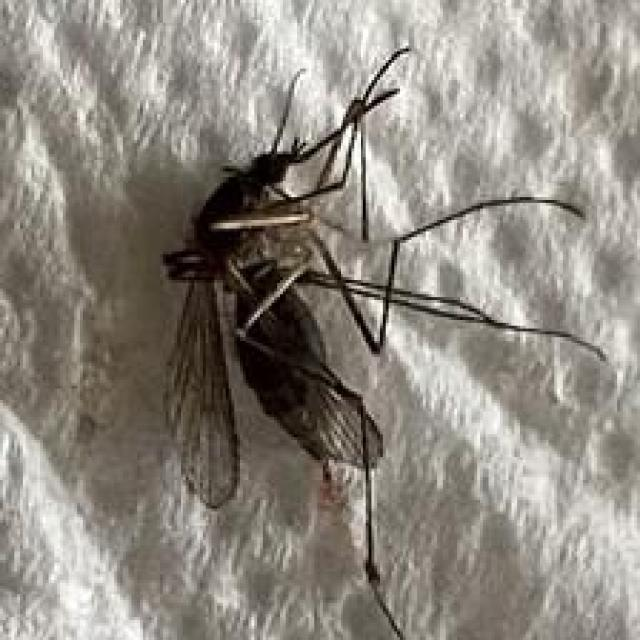Culex: (158, 45, 618, 640)
